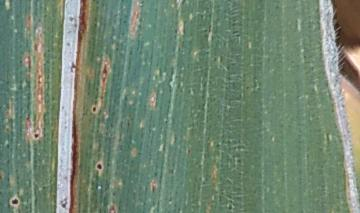tarspot: (93, 155, 106, 178), (7, 192, 23, 210), (31, 126, 44, 146), (89, 100, 100, 116)
